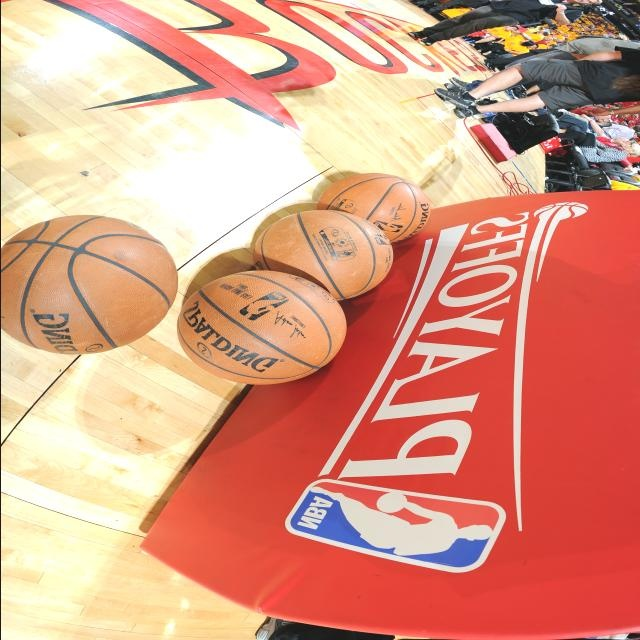agrume: (19, 213, 159, 355), (197, 261, 335, 403), (275, 209, 376, 299), (331, 170, 414, 234)
